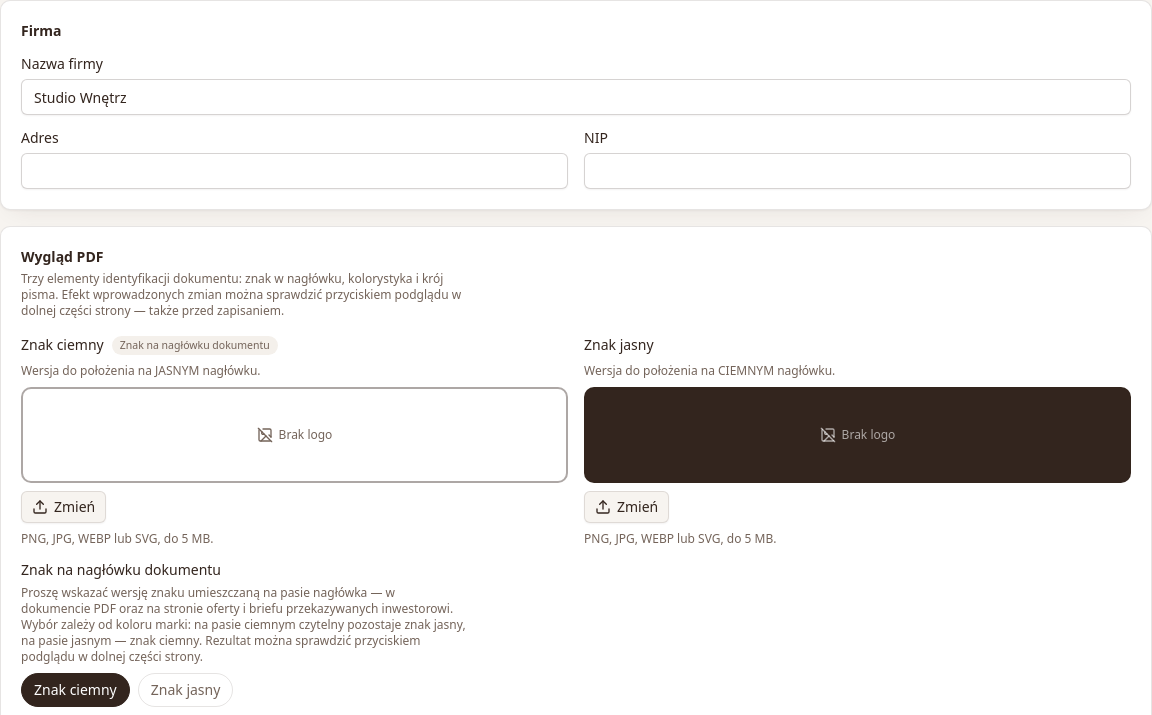
it: BrandSettingsPage › anulowanie przywraca zapisane wartosci
Type " zmiana" into the field labelled "Nazwa firmy". click: [576, 97]
box: [21,79,1131,115]
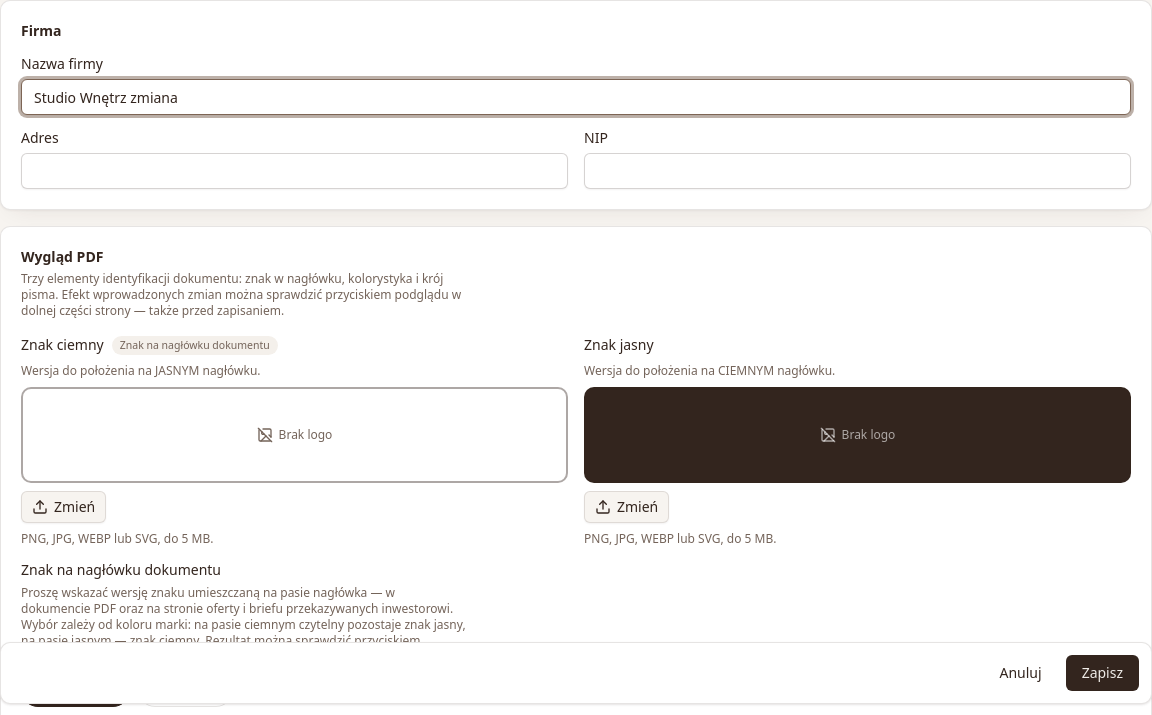
Click the button "Anuluj". click: [1021, 673]
box: [984,655,1058,691]
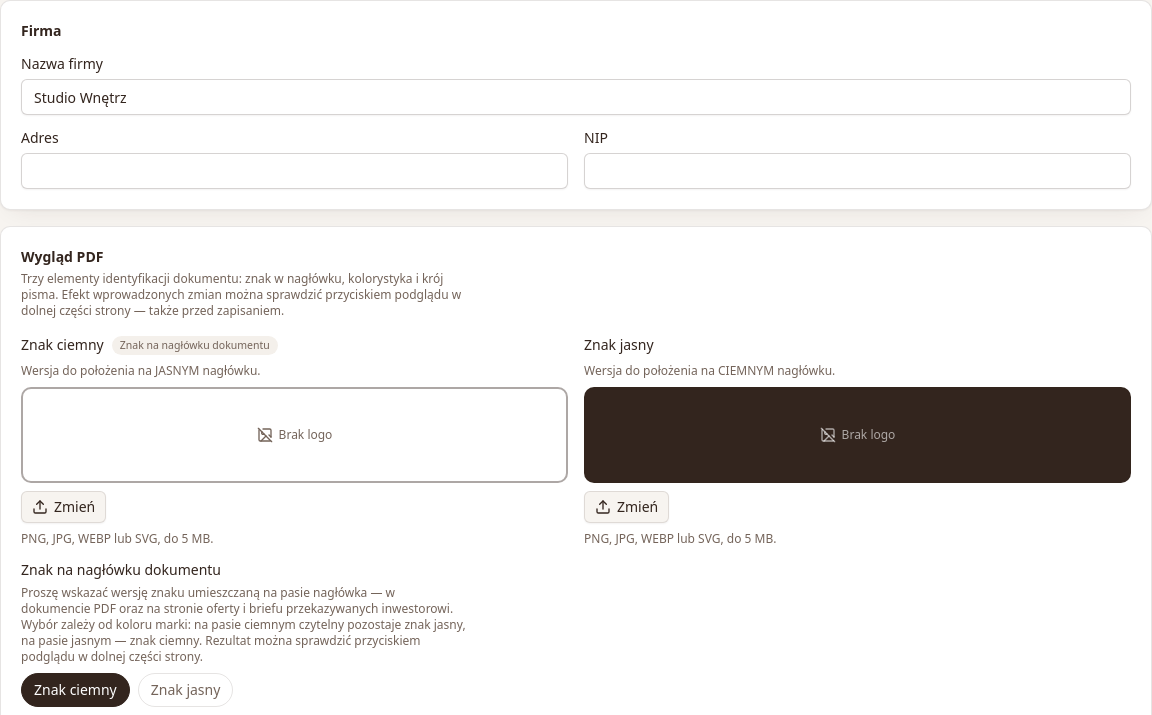
expect the field labelled "Nazwa firmy" holds "Studio Wnętrz": met, box [21,79,1131,115]
